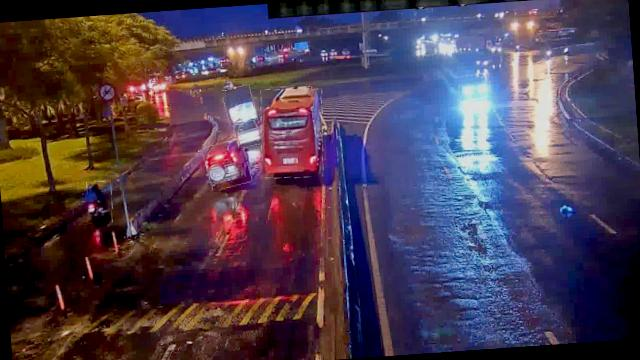Bike: (85, 180, 113, 224)
Bus: (258, 86, 326, 180)
Car: (203, 139, 250, 190), (232, 114, 264, 148), (457, 72, 491, 100)
Truck: (222, 86, 256, 126)
